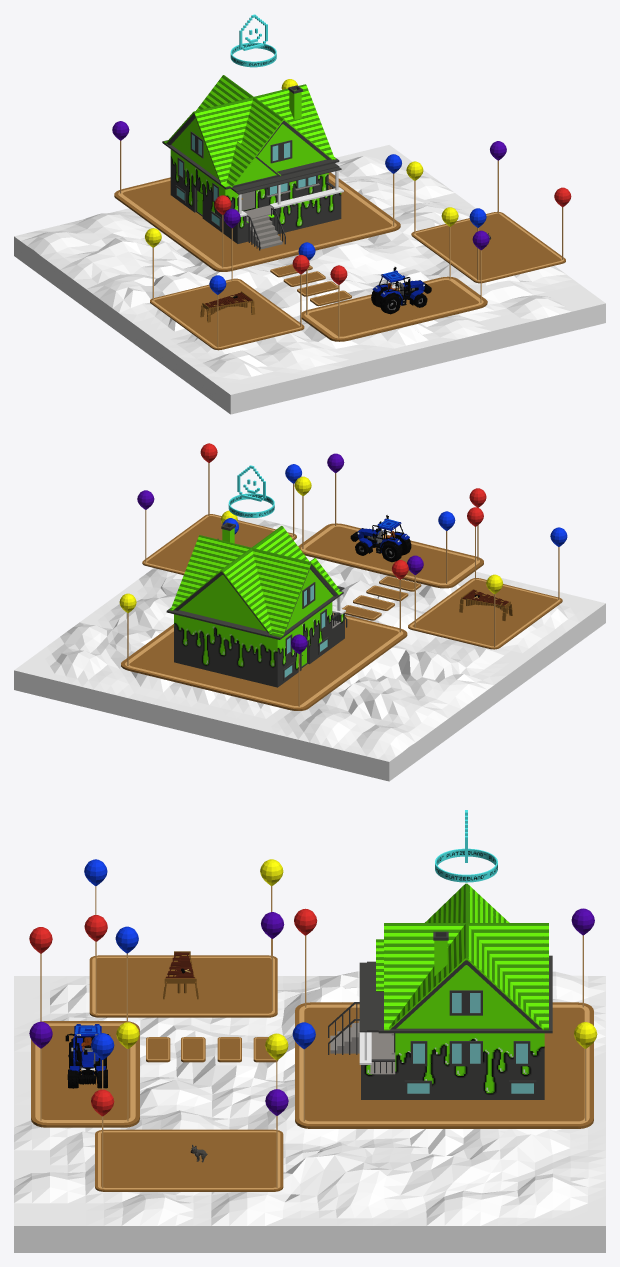
3 renders of one model, top to bottom at view 1: azimuth 30°, elevation 25°; view 2: azimuth 150°, elevation 25°; view 3: azimuth 270°, elevation 25°, orthographic. The views are drawn at different scales.
Visible parts, largest first — view 1: Cube.013, Cube.754, VEHICLES_TRACTOR, TYPE_PREMIUM, OBJRANDOM_MARIMBA; view 2: Cube.013, Cube.754, VEHICLES_TRACTOR, TYPE_PREMIUM, OBJRANDOM_MARIMBA; view 3: Cube.013, Cube.754, VEHICLES_TRACTOR, TYPE_PREMIUM, OBJRANDOM_MARIMBA.
Part boxes in pixels (left/top/right/bottom): Cube.013: left=14, top=79, right=605, bottom=414; Cube.754: left=162, top=75, right=343, bottom=250; VEHICLES_TRACTOR: left=371, top=267, right=431, bottom=314; TYPE_PREMIUM: left=230, top=14, right=276, bottom=67; OBJRANDOM_MARIMBA: left=200, top=291, right=255, bottom=322; Cube.013: left=14, top=443, right=605, bottom=781; Cube.754: left=166, top=522, right=347, bottom=687; VEHICLES_TRACTOR: left=350, top=515, right=411, bottom=562; TYPE_PREMIUM: left=228, top=465, right=274, bottom=517; OBJRANDOM_MARIMBA: left=459, top=589, right=512, bottom=620; Cube.013: left=14, top=859, right=605, bottom=1252; Cube.754: left=328, top=883, right=552, bottom=1099; VEHICLES_TRACTOR: left=65, top=1024, right=108, bottom=1088; TYPE_PREMIUM: left=435, top=810, right=497, bottom=882; OBJRANDOM_MARIMBA: left=163, top=951, right=198, bottom=999.
Size of the model in its own units: 4000 by 2393 by 4000.
35 materials, 4 textured.
